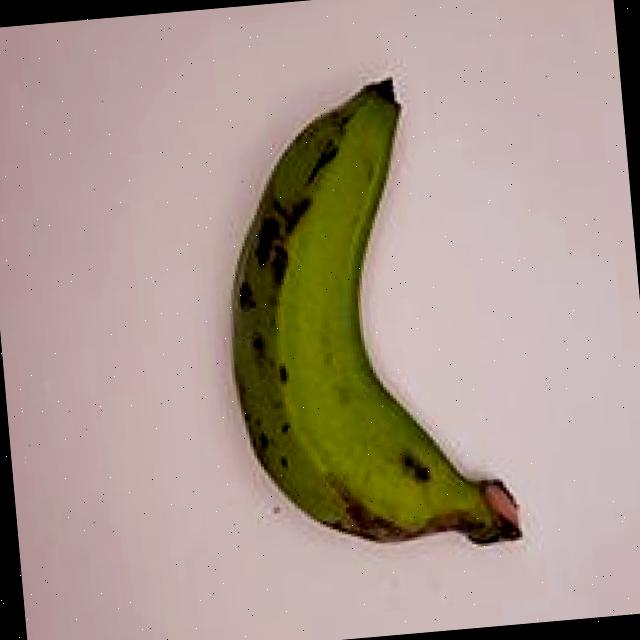Raw: (179, 41, 557, 602)
